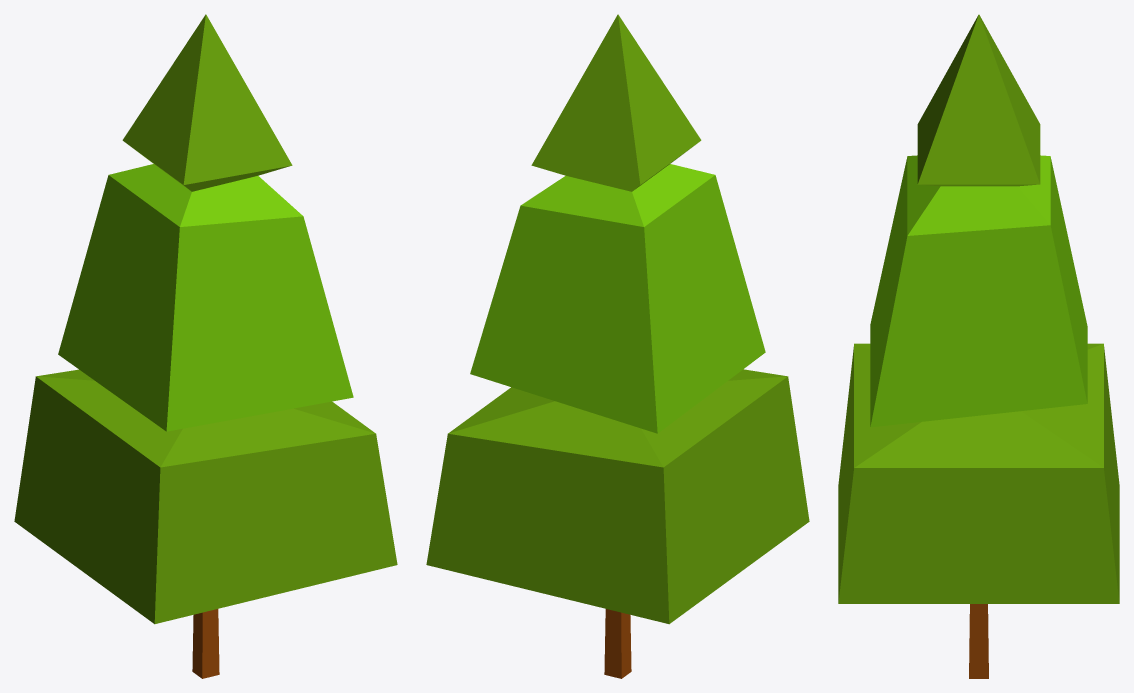
Rendered from Tree_37_Spring.fbx.
The picture shows the model from 3 angles, left to right: view 1: azimuth 30°, elevation 25°; view 2: azimuth 150°, elevation 25°; view 3: azimuth 270°, elevation 25°; orthographic projection.
Visible parts, largest first — view 1: Tree_37_Spring; view 2: Tree_37_Spring; view 3: Tree_37_Spring.
Part boxes in pixels (bbox=[...]): Tree_37_Spring: bbox=[14, 14, 397, 678]; Tree_37_Spring: bbox=[426, 14, 809, 678]; Tree_37_Spring: bbox=[838, 14, 1119, 678].
Bounding box in the file's own units: 200 × 519 × 200.
